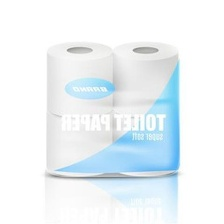tissue: (37, 31, 189, 184)
